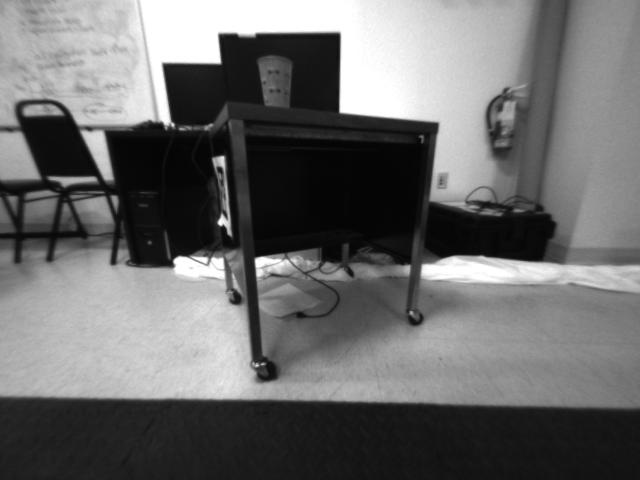coffee_cup: (252, 53, 296, 108)
